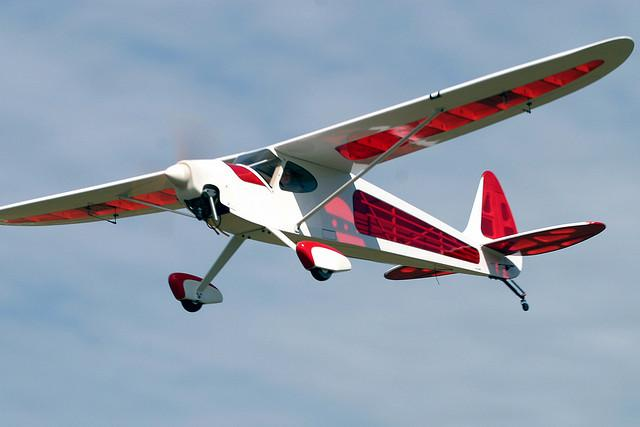airplane: (3, 32, 640, 350)
